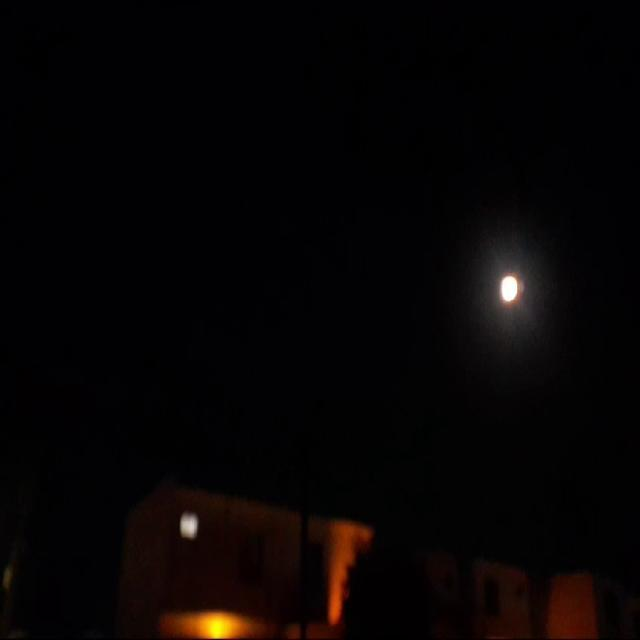moon: (500, 267, 523, 301)
